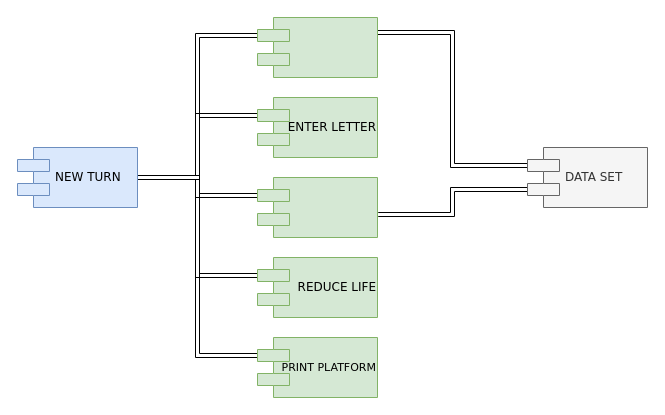
This 665x415 diagram has some shape labels left out. The shapes that lost their labels are listed below. From the top down, each one's centre as x and y in pixels, then its label:
[317,47]: GET WORD
[317,207]: CHECK LETTER
